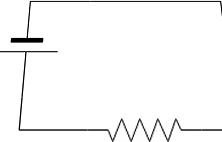resistor: (99, 112, 187, 141)
